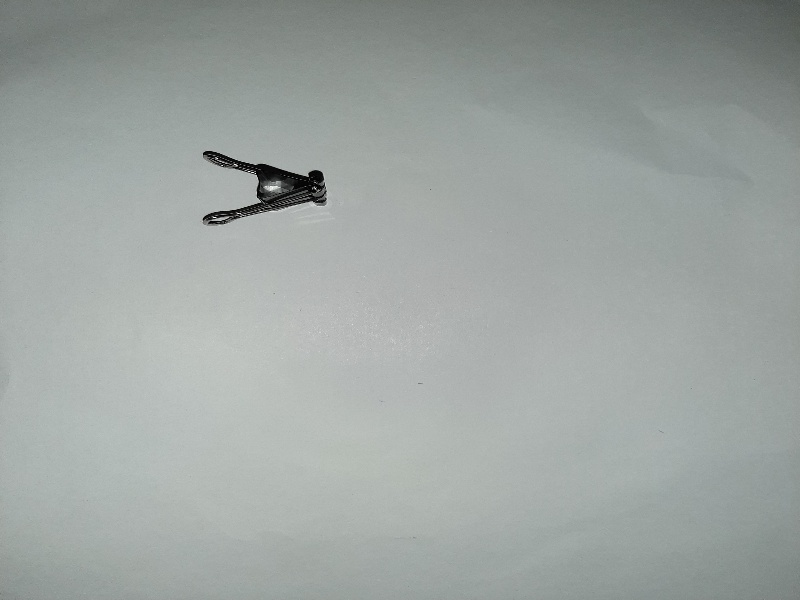Big Paperclip: (197, 146, 331, 228)
